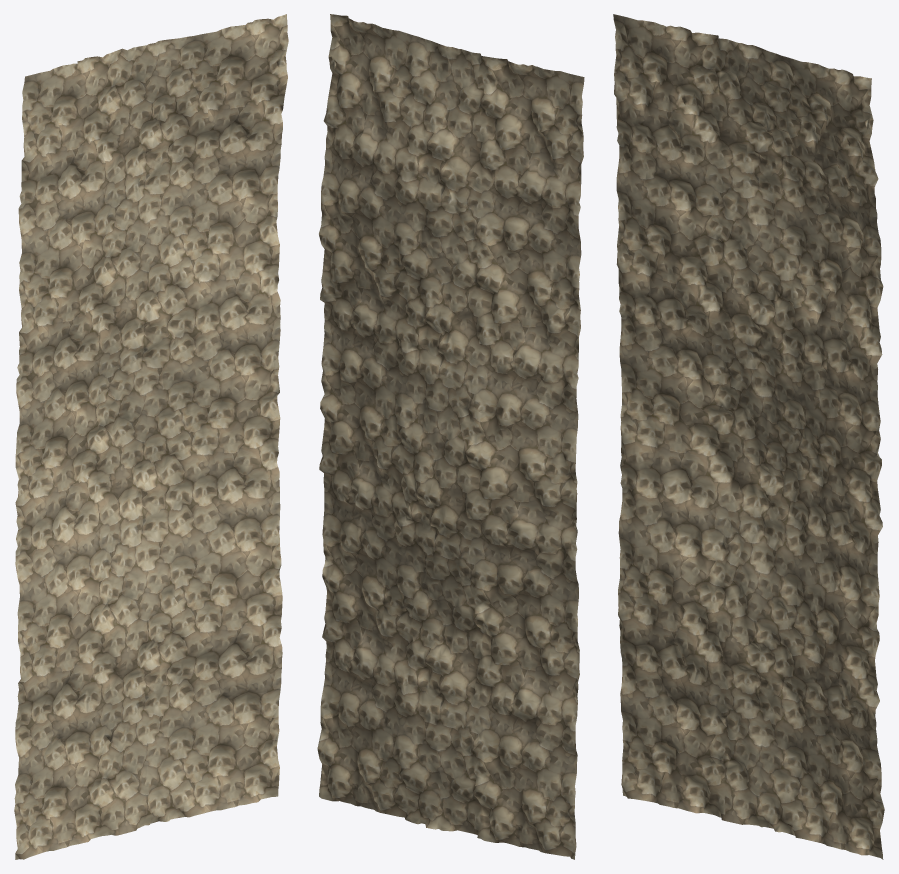
File: SM_Pile_Wall_Arch_02.fbx
The picture shows the model from 3 angles, left to right: view 1: azimuth 30°, elevation 25°; view 2: azimuth 150°, elevation 25°; view 3: azimuth 330°, elevation 25°; orthographic projection.
Visible parts, largest first — view 1: SM_Pile_Wall_Arch_02; view 2: SM_Pile_Wall_Arch_02; view 3: SM_Pile_Wall_Arch_02.
Boxes of the visible parts, bbox=[...] form: SM_Pile_Wall_Arch_02: bbox=[14, 14, 288, 859]; SM_Pile_Wall_Arch_02: bbox=[317, 14, 584, 859]; SM_Pile_Wall_Arch_02: bbox=[613, 14, 884, 859].
Size of the model in its own units: 231 by 38.77 by 666.
1 material, 1 textured.
